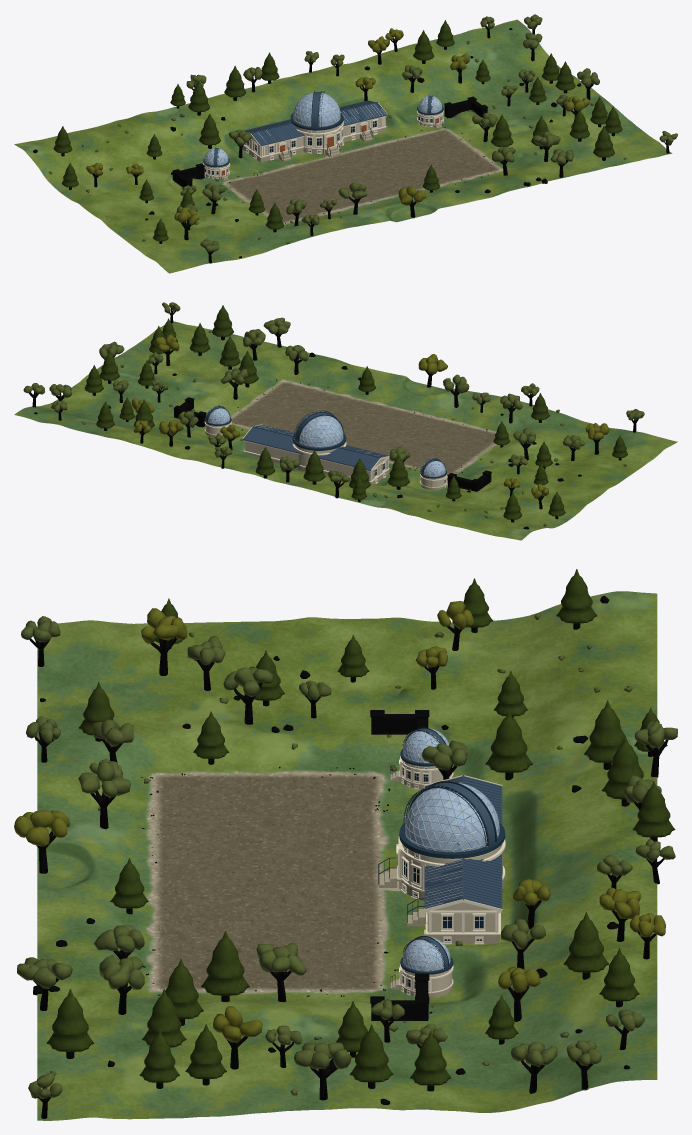
Rendered from surroundings_29x11.glb.
3 views of the same model, one above another, from view 1: azimuth 30°, elevation 25°; view 2: azimuth 150°, elevation 25°; view 3: azimuth 270°, elevation 25° (orthographic). The views are drawn at different scales.
Parts seen in each view (by area): view 1: ground, props, lab; view 2: ground, props, lab; view 3: ground, props, lab.
Part boxes in pixels (left/top/right/bottom): ground: left=14, top=19, right=672, bottom=273; props: left=33, top=14, right=677, bottom=263; lab: left=203, top=91, right=443, bottom=180; ground: left=14, top=321, right=677, bottom=540; props: left=23, top=302, right=644, bottom=529; lab: left=204, top=405, right=447, bottom=490; ground: left=37, top=591, right=657, bottom=1120; props: left=14, top=569, right=677, bottom=1118; lab: left=378, top=727, right=505, bottom=997.
Size of the model in its own units: 74.31 by 7.93 by 41.77.
4 materials, 4 textured.
